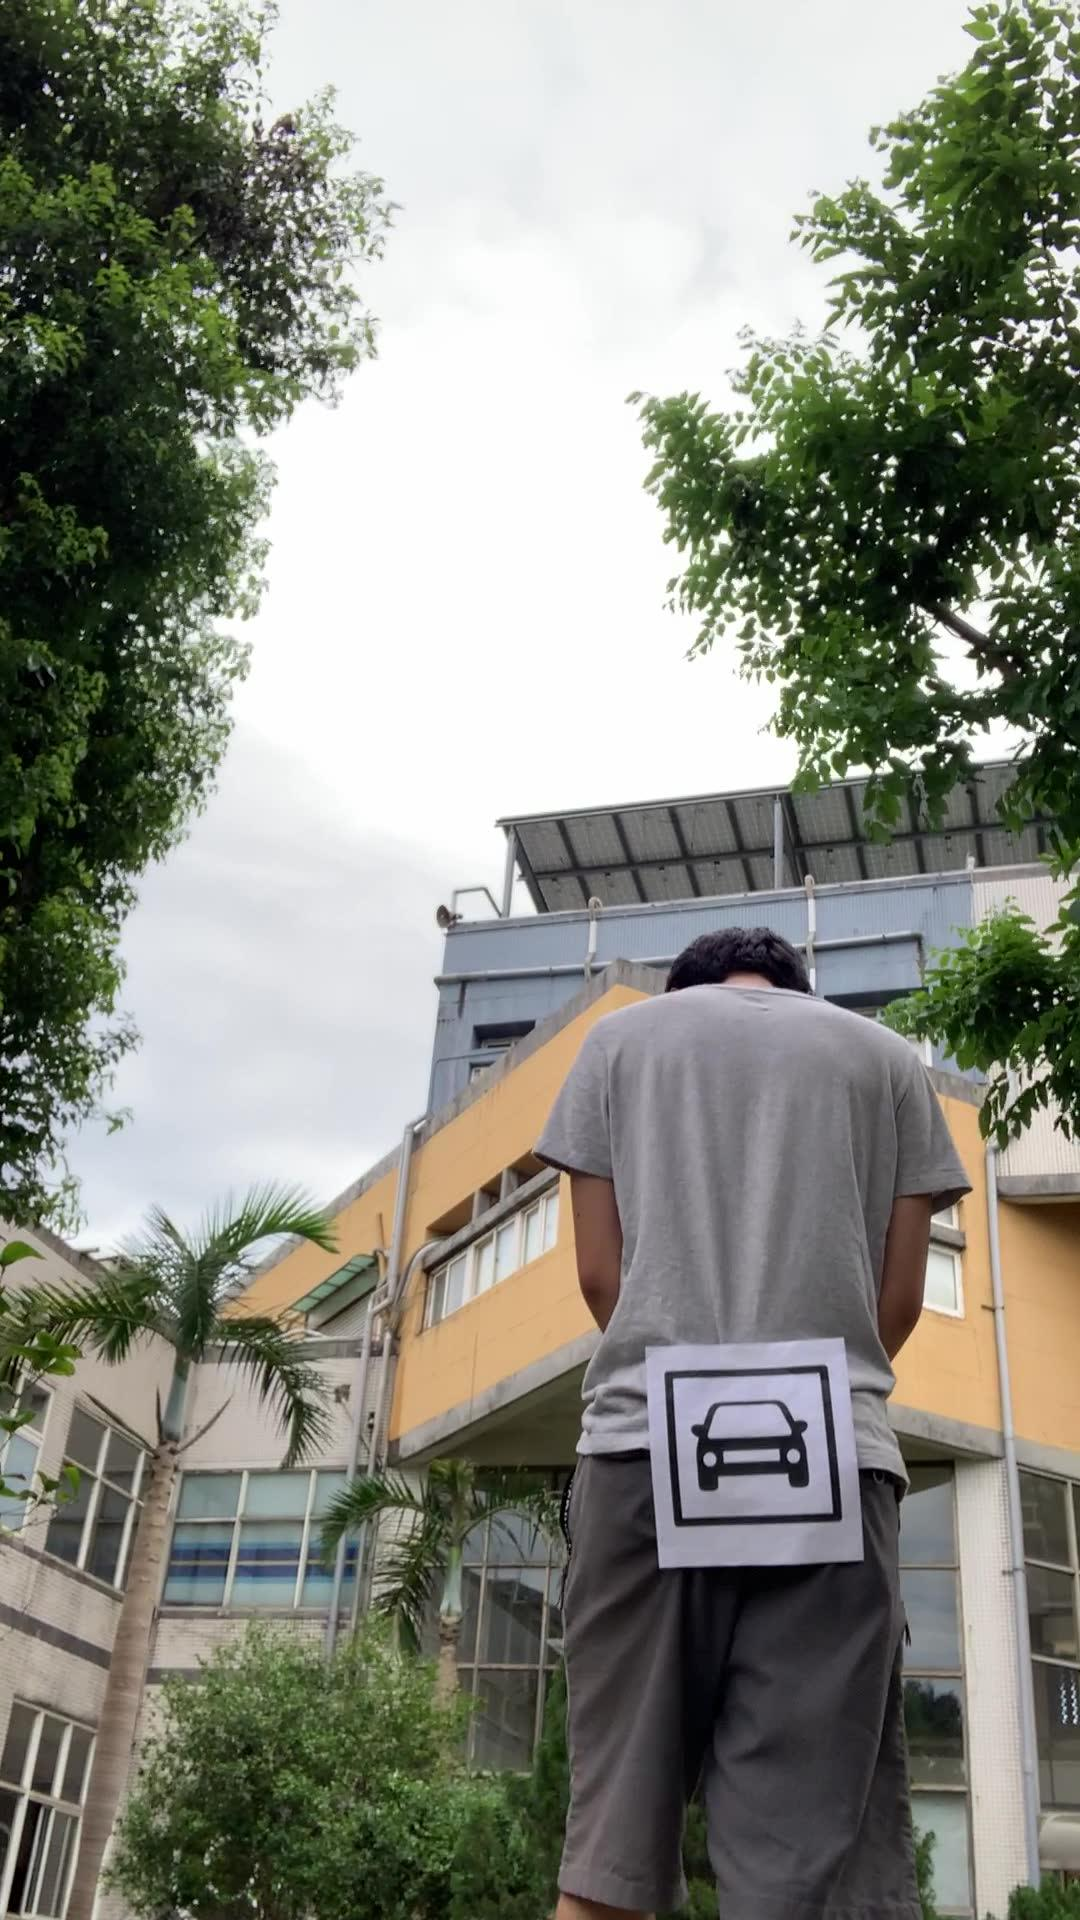car_img: (663, 1364, 843, 1527)
